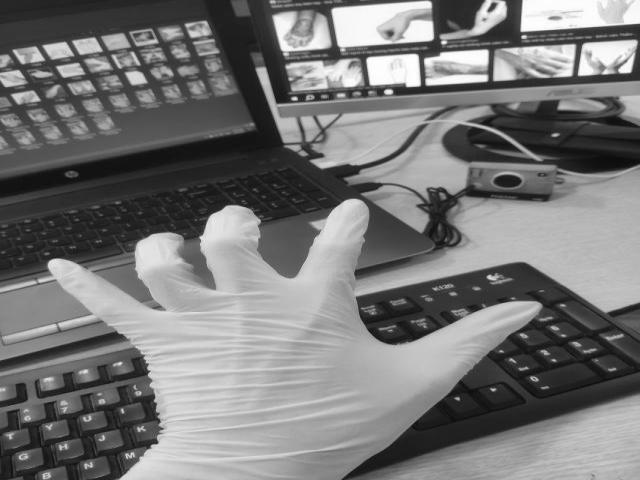gloved: (53, 200, 539, 480)
